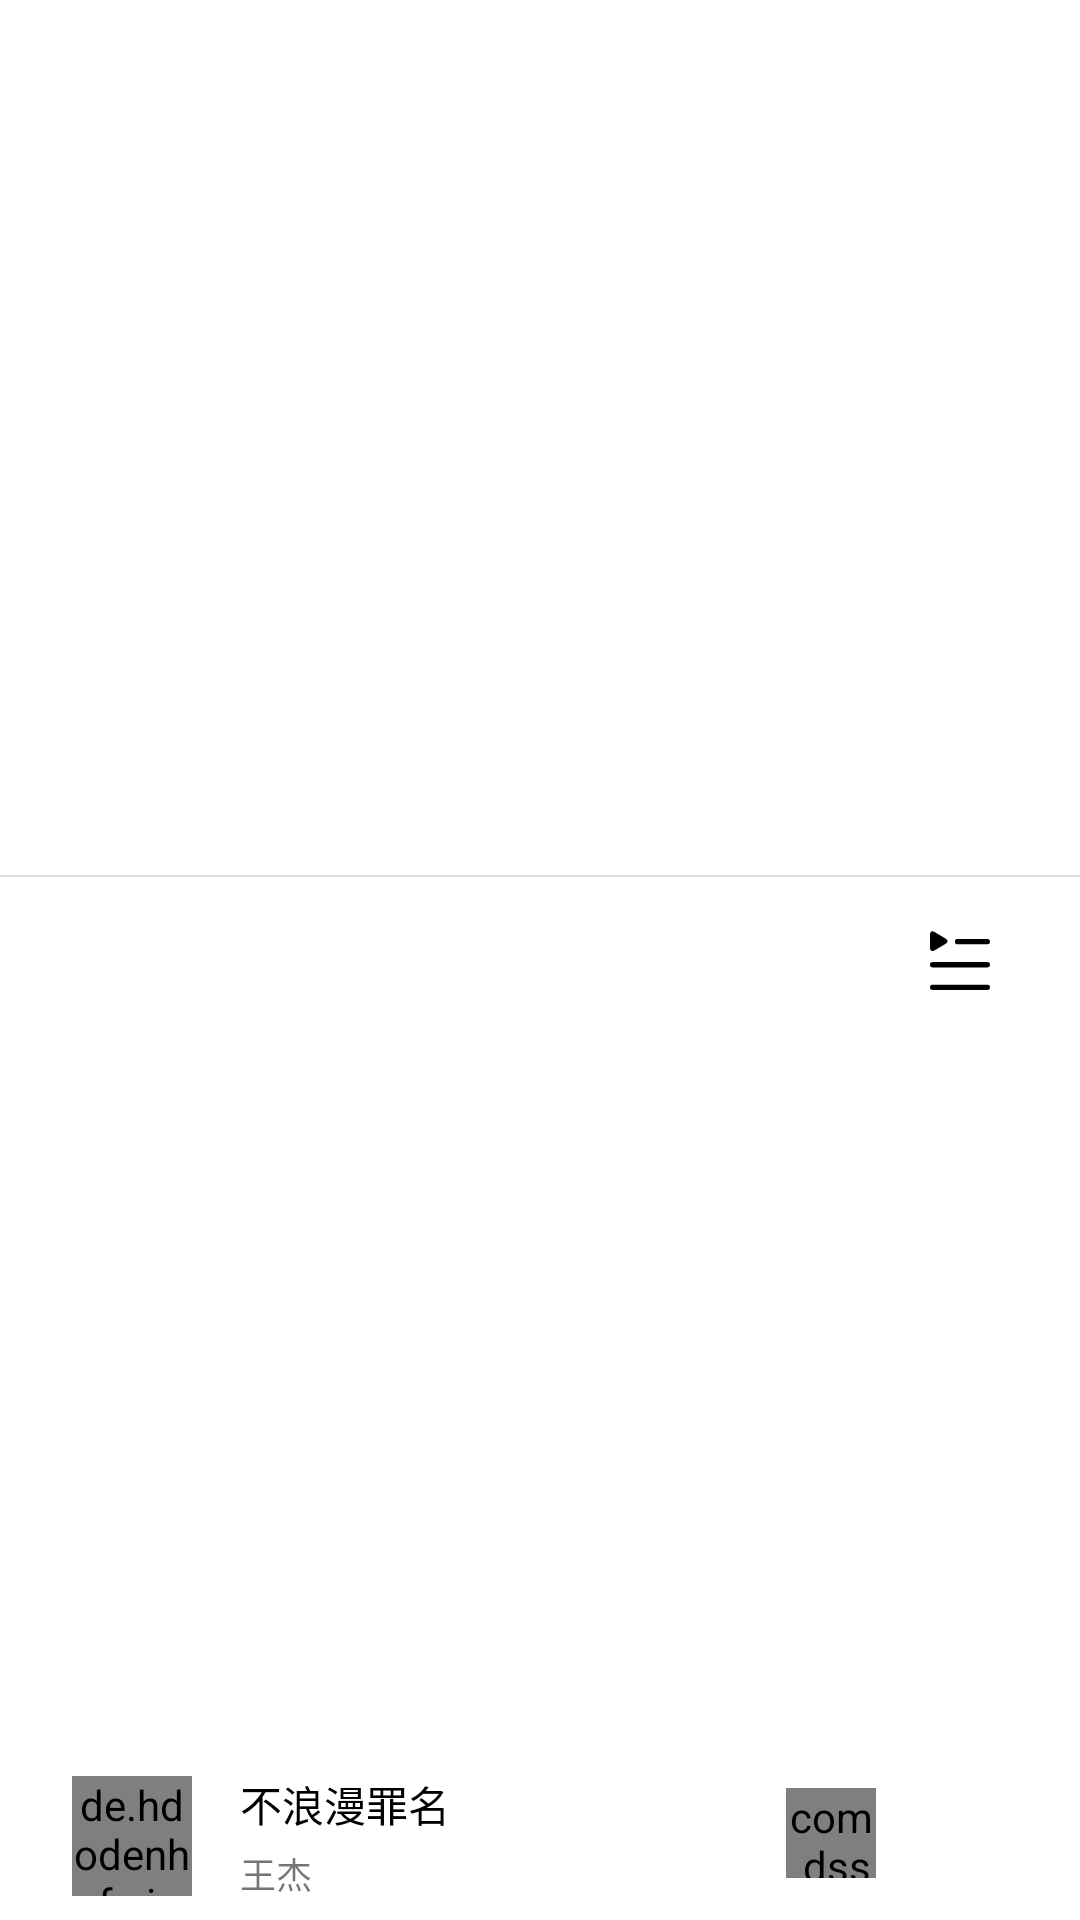

Where icons sit on this 1080 x 1920 app screen, as rect(x1, y1, x2, y2):
play list: rect(930, 931, 990, 990)
